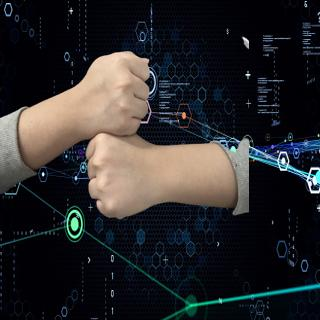CAREFUL: (2, 47, 249, 218)
